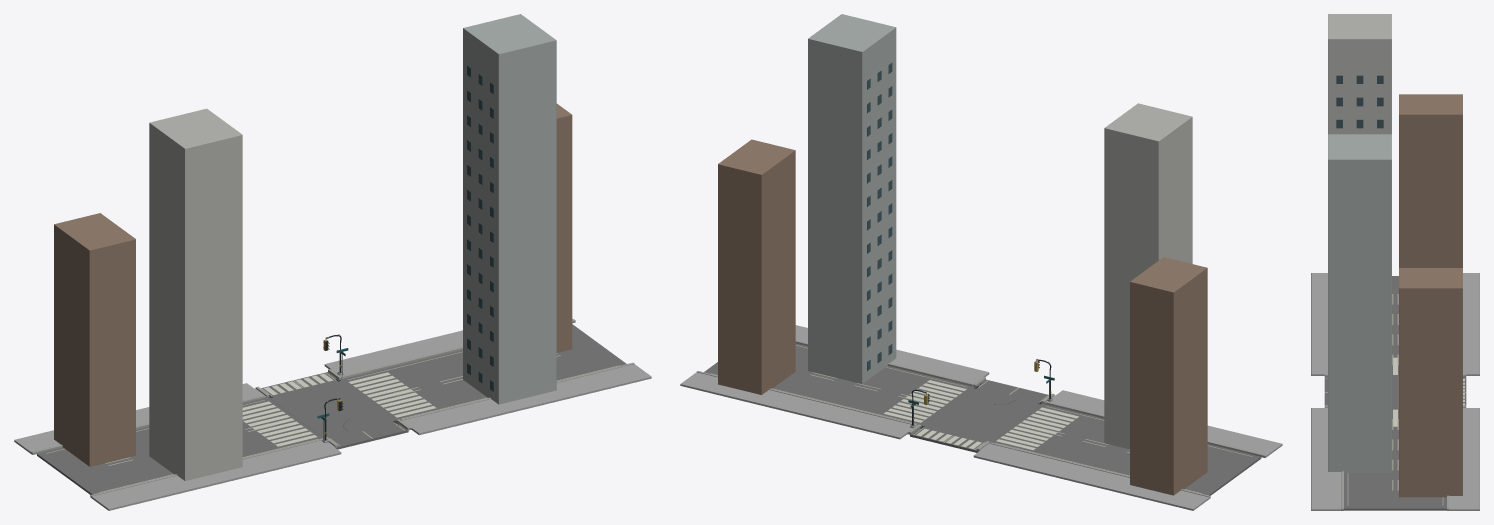
The model's file is city_hd_17.glb.
The picture shows the model from 3 angles, left to right: view 1: azimuth 30°, elevation 25°; view 2: azimuth 150°, elevation 25°; view 3: azimuth 270°, elevation 25°; orthographic projection. The views are drawn at different scales.
Parts seen in each view (by area): view 1: CITY_realwall_a9b0ae, CITY_realwall_b8b9b4, CITY_realwall_927d6c, CITY_PBR_asphalt, CITY_PBR_pavement, CITY_zebra_paint, CITY_distant_window, CITY_curb, CITY_paint; view 2: CITY_realwall_927d6c, CITY_realwall_a9b0ae, CITY_realwall_b8b9b4, CITY_PBR_asphalt, CITY_PBR_pavement, CITY_zebra_paint, CITY_curb, CITY_distant_window, CITY_paint; view 3: CITY_realwall_927d6c, CITY_realwall_a9b0ae, CITY_PBR_pavement, CITY_realwall_b8b9b4, CITY_PBR_asphalt, CITY_distant_window, CITY_paint, CITY_zebra_paint, CITY_curb.
Part boxes in pixels (x1,y1,x2,y2): CITY_realwall_a9b0ae: (463, 14, 556, 404); CITY_realwall_b8b9b4: (149, 108, 242, 480); CITY_realwall_927d6c: (54, 103, 572, 466); CITY_PBR_asphalt: (37, 324, 626, 494); CITY_PBR_pavement: (14, 318, 651, 510); CITY_zebra_paint: (242, 372, 435, 446); CITY_distant_window: (467, 65, 493, 391); CITY_curb: (31, 319, 634, 497); CITY_paint: (46, 351, 619, 492); CITY_realwall_927d6c: (718, 139, 1207, 495); CITY_realwall_a9b0ae: (808, 14, 896, 383); CITY_realwall_b8b9b4: (1104, 103, 1192, 449); CITY_PBR_asphalt: (704, 343, 1261, 495); CITY_PBR_pavement: (680, 325, 1282, 510); CITY_zebra_paint: (884, 380, 1078, 450); CITY_curb: (696, 340, 1266, 498); CITY_distant_window: (867, 63, 892, 370); CITY_paint: (710, 345, 1252, 493); CITY_realwall_927d6c: (1399, 94, 1462, 497); CITY_realwall_a9b0ae: (1328, 134, 1391, 472); CITY_PBR_pavement: (1311, 273, 1479, 510); CITY_realwall_b8b9b4: (1328, 14, 1391, 134); CITY_PBR_asphalt: (1324, 276, 1466, 510); CITY_distant_window: (1336, 75, 1383, 128); CITY_paint: (1324, 294, 1466, 505); CITY_zebra_paint: (1393, 357, 1464, 426); CITY_curb: (1324, 374, 1466, 510).
Size of the model in its own units: 63 by 39.26 by 19.01.
